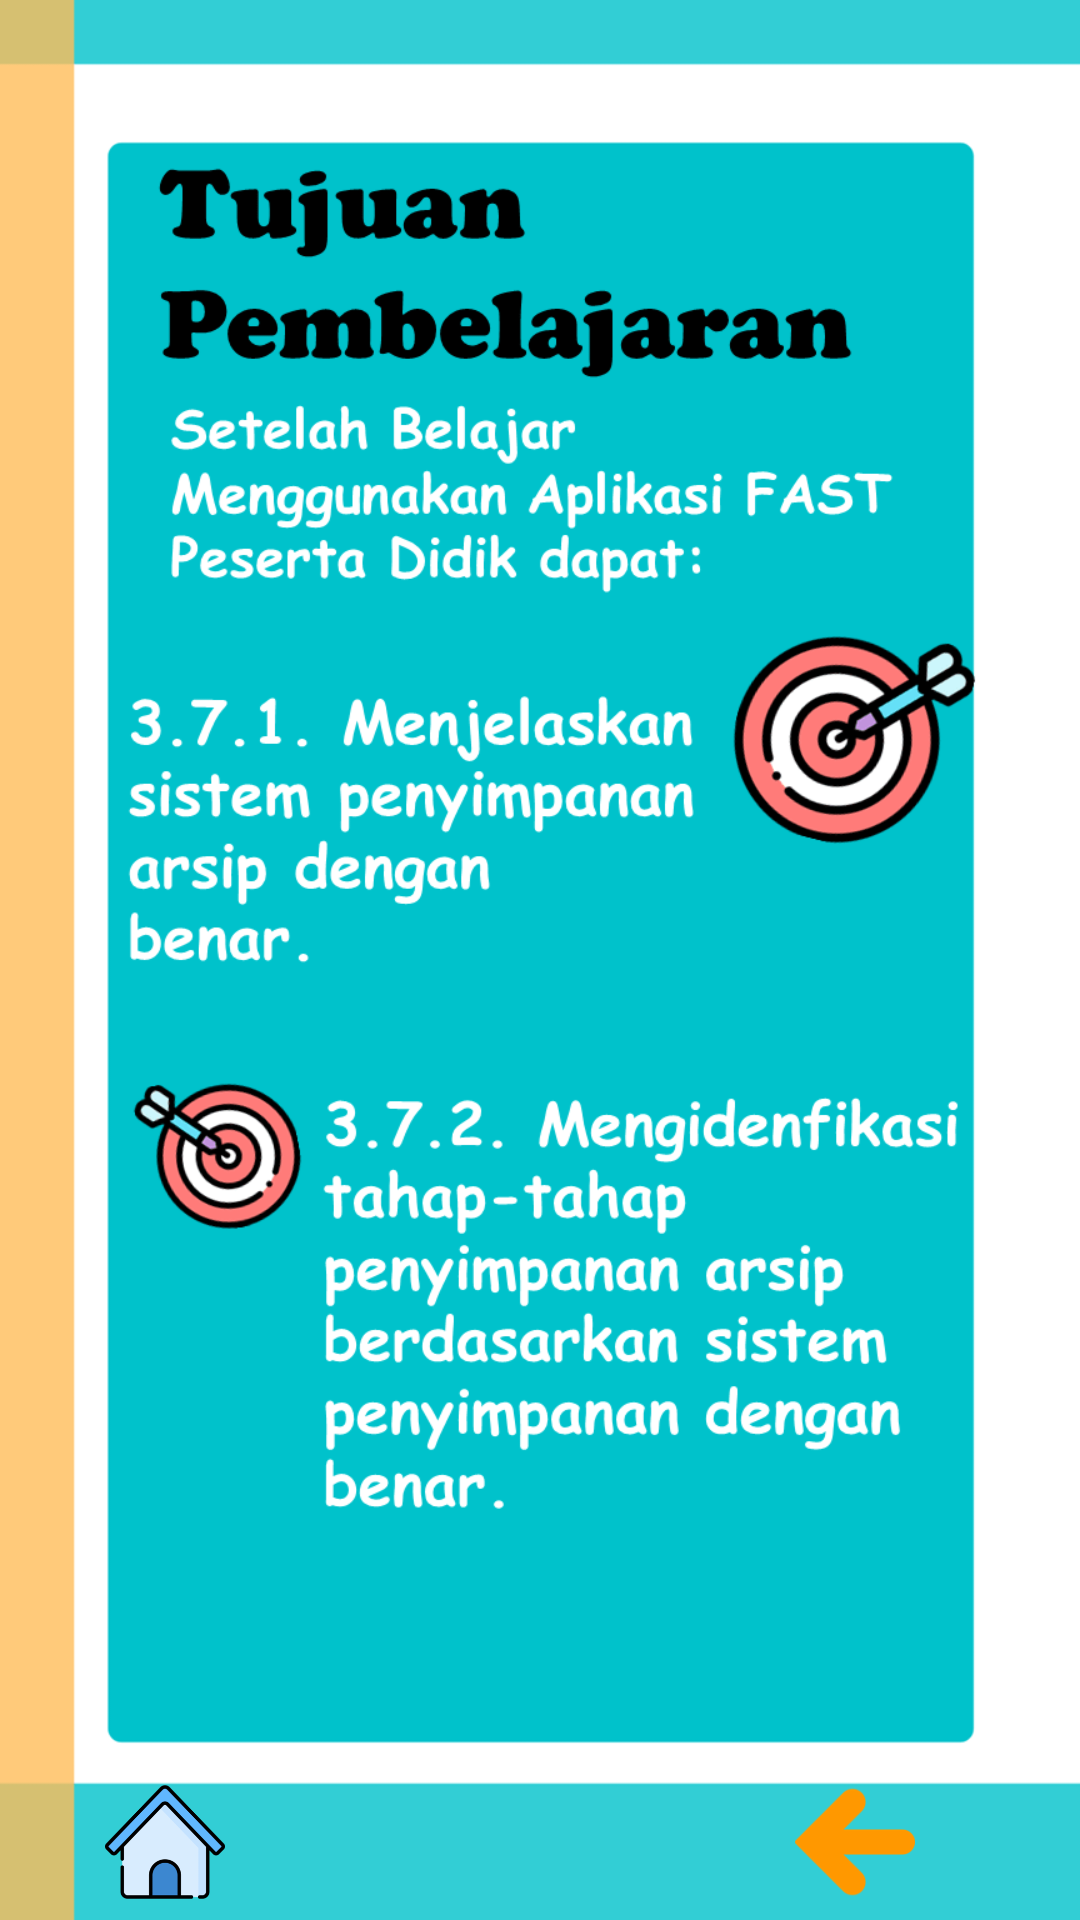

Named icons in this screenshot (1080w x 1920h) and their bounding boxes, (x1, y1, x2, y2):
home: (105, 1785, 225, 1899)
prev: (795, 1788, 915, 1896)
